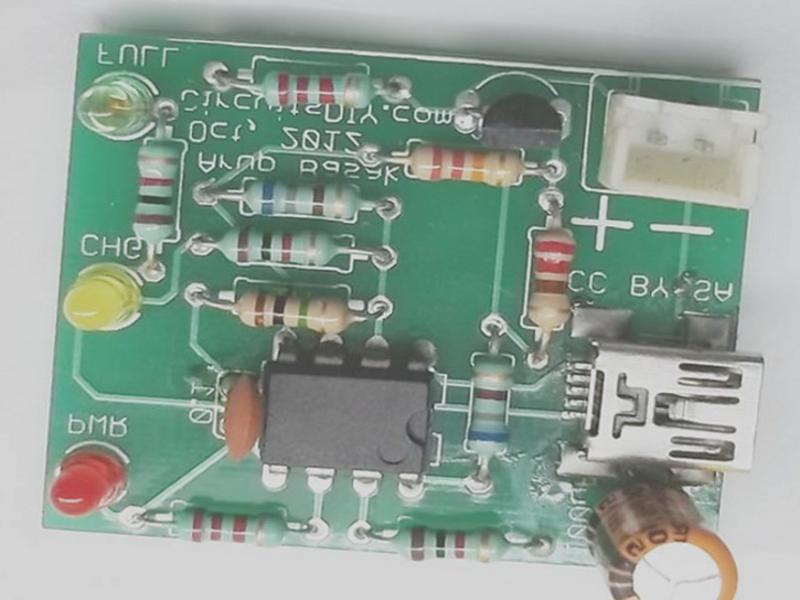Capacitor: (582, 480, 747, 600)
LED: (47, 442, 130, 521), (73, 72, 159, 142), (60, 263, 143, 334)
Resistor: (399, 139, 532, 191), (207, 221, 342, 271), (381, 519, 524, 566), (229, 176, 367, 224), (230, 284, 353, 337), (251, 63, 384, 112), (162, 503, 295, 549), (524, 224, 577, 338), (464, 352, 516, 463), (134, 138, 177, 246)
